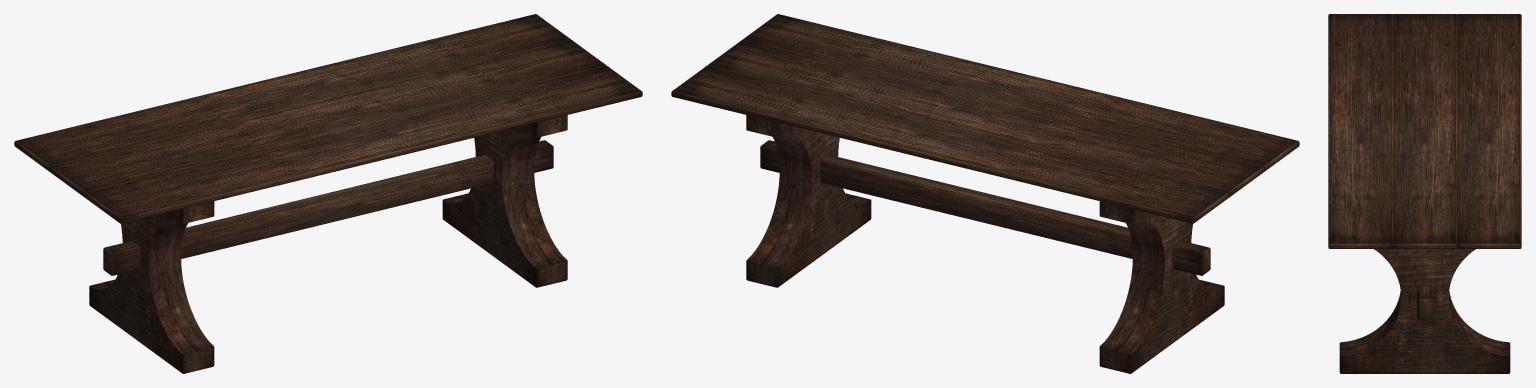
File: table.gltf
3 renders of one model, left to right at view 1: azimuth 30°, elevation 25°; view 2: azimuth 150°, elevation 25°; view 3: azimuth 270°, elevation 25°, orthographic. The views are drawn at different scales.
Visible parts, largest first — view 1: Simetría.1; view 2: Simetría.1; view 3: Simetría.1.
Part boxes in pixels (box(x1,y1,x2,y2)): Simetría.1: box(14, 14, 642, 373); Simetría.1: box(671, 14, 1299, 373); Simetría.1: box(1328, 14, 1521, 373).
Bounding box in the file's own units: 3588 × 1170 × 1268.
1 material, 1 textured.
